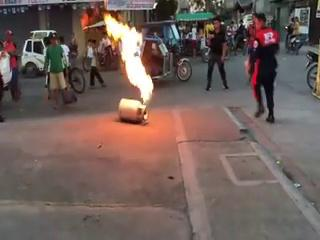Fire: (101, 11, 155, 103)
